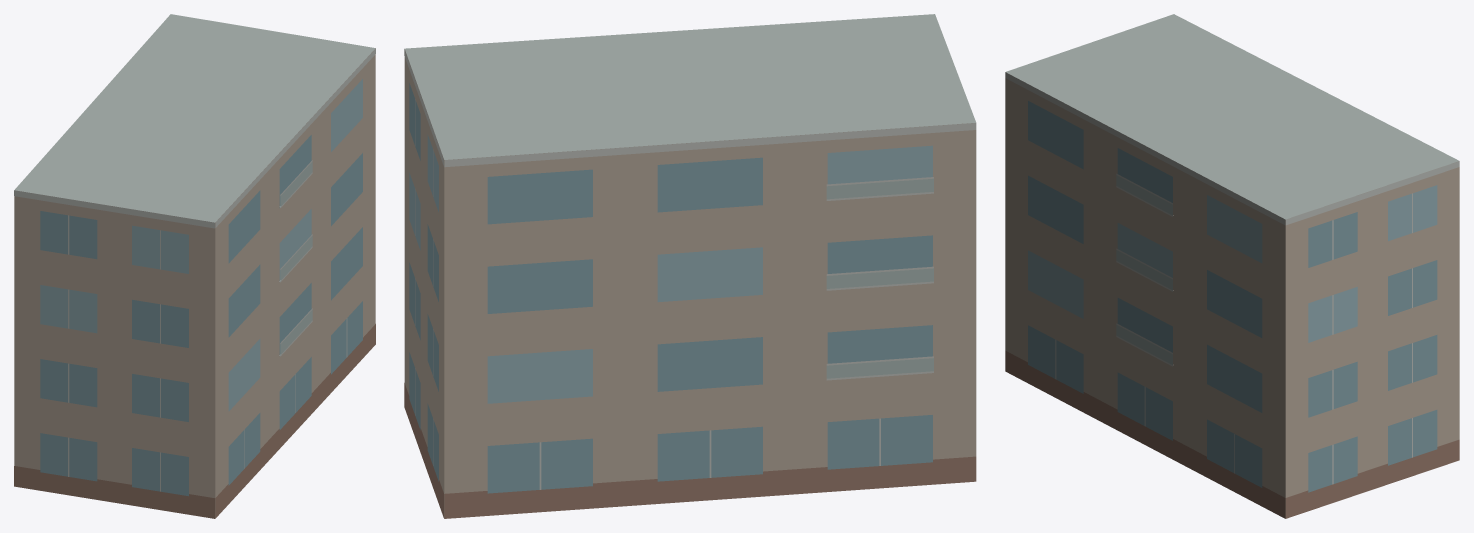
Rendered from survey-upis-32596870.glb.
3 renders of one model, left to right at view 1: azimuth 30°, elevation 25°; view 2: azimuth 150°, elevation 25°; view 3: azimuth 270°, elevation 25°, orthographic. The views are drawn at different scales.
Parts seen in each view (by area): view 1: survey-upis-32596870.tmp; view 2: survey-upis-32596870.tmp; view 3: survey-upis-32596870.tmp.
Part boxes in pixels (<box>): survey-upis-32596870.tmp: <box>14,14,375,518</box>; survey-upis-32596870.tmp: <box>404,14,976,518</box>; survey-upis-32596870.tmp: <box>1005,14,1459,518</box>.
Bounding box in the file's own units: 17.97 × 12.2 × 16.79.
